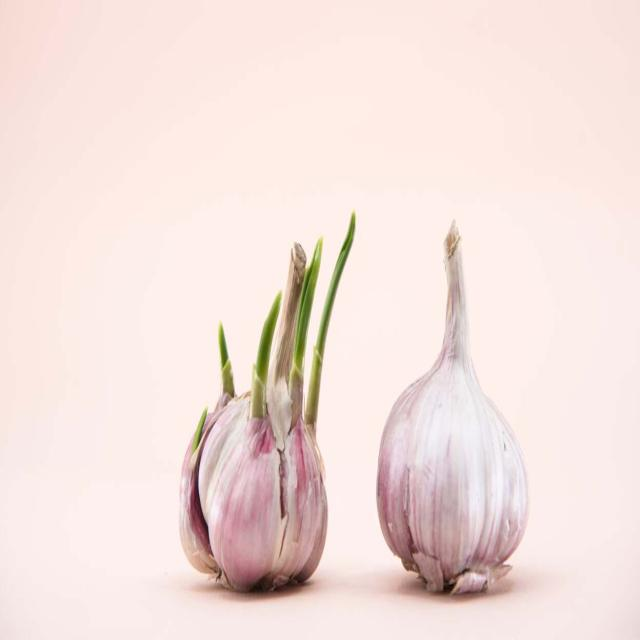garlic: (365, 352, 535, 590)
